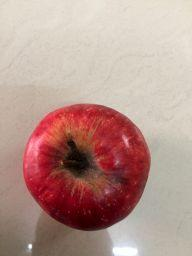Apple Ripe: (25, 89, 151, 243)
